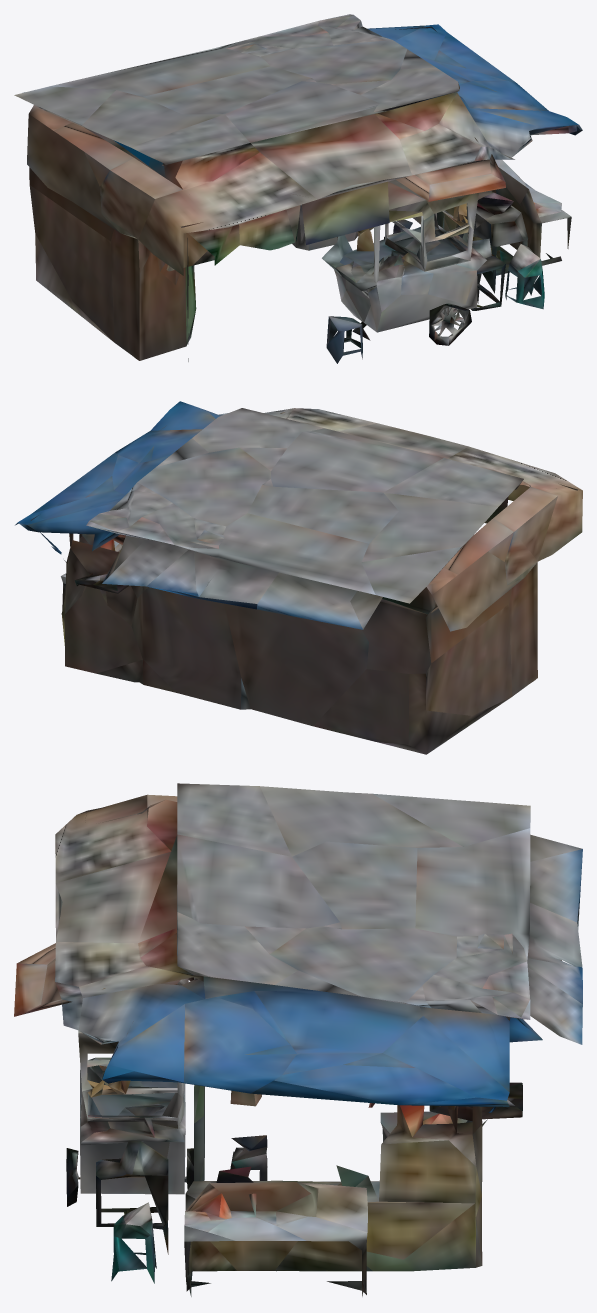
File: warung_lod2.glb
3 views of the same model, one above another, from view 1: azimuth 30°, elevation 25°; view 2: azimuth 150°, elevation 25°; view 3: azimuth 270°, elevation 25° (orthographic). The views are drawn at different scales.
Parts seen in each view (by area): view 1: tripo_node_a6288710-d552-4bbf-8dfe-8de61e82c760; view 2: tripo_node_a6288710-d552-4bbf-8dfe-8de61e82c760; view 3: tripo_node_a6288710-d552-4bbf-8dfe-8de61e82c760.
Boxes of the visible parts, x1=… form: tripo_node_a6288710-d552-4bbf-8dfe-8de61e82c760: x1=14, y1=14, x2=582, y2=363; tripo_node_a6288710-d552-4bbf-8dfe-8de61e82c760: x1=15, y1=401, x2=582, y2=754; tripo_node_a6288710-d552-4bbf-8dfe-8de61e82c760: x1=14, y1=783, x2=582, y2=1296.
Bounding box in the file's own units: 0.9886 × 0.4635 × 0.8523.
Materials: 1 (1 with a texture image).
